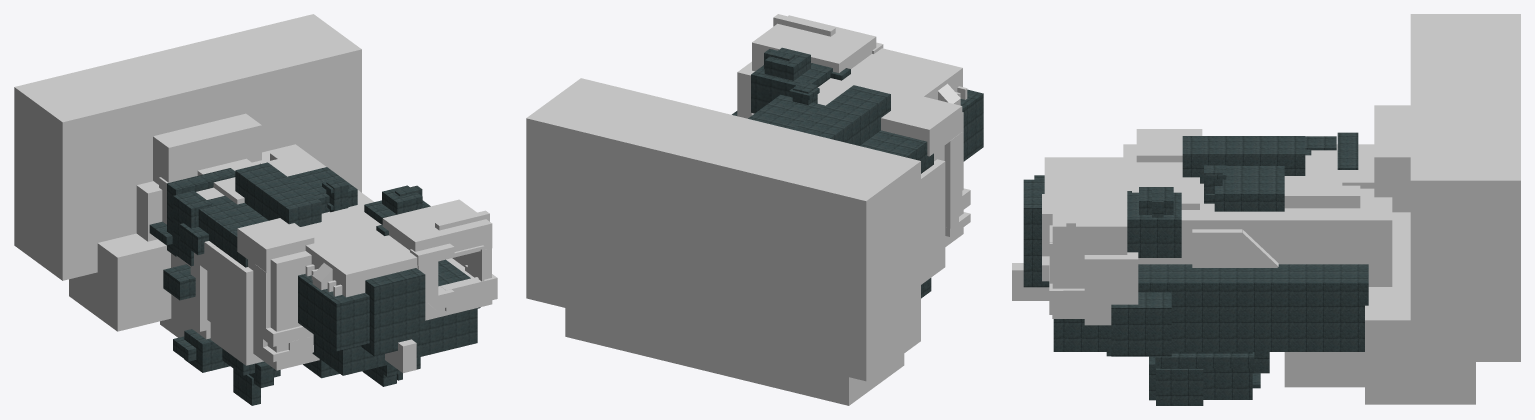
Rendered from EngineRemake_Exterior_Colliders.fbx.
3 views of the same model, side by side, from view 1: azimuth 30°, elevation 25°; view 2: azimuth 150°, elevation 25°; view 3: azimuth 270°, elevation 25° (orthographic). The views are drawn at different scales.
Visible parts, largest first — view 1: Cube.11199, Cube.11198, Cube.11190, Cube.11200, Cube.11189, Cube.11153, Cube.11186, Cube.11146, Cube.11152, Cube.11214, Cube.11157, Cube.11178 (+27 smaller); view 2: Cube.11199, Cube.11198, Cube.11190, Cube.11214, Cube.11157, Cube.11178, Cube.11186, ExteriorPiece.047, ExteriorPiece.053, Cube.11179, Cube.11149, Cube.11152 (+4 smaller); view 3: Cube.11199, Cube.11146, Cube.11189, Cube.11198, Cube.11214, Cube.11190, Cube.11157, ExteriorPiece.051, Cube.11200, Cube.11208, ExteriorPiece.053, Cube.11202 (+19 smaller).
Part boxes in pixels (<box>): Cube.11199: <box>14,14,361,280</box>; Cube.11198: <box>69,233,171,331</box>; Cube.11190: <box>300,205,427,303</box>; Cube.11200: <box>153,113,261,184</box>; Cube.11189: <box>159,144,373,370</box>; Cube.11153: <box>361,268,425,356</box>; Cube.11186: <box>210,246,263,365</box>; Cube.11146: <box>312,259,477,375</box>; Cube.11152: <box>298,274,369,350</box>; Cube.11214: <box>382,199,492,261</box>; Cube.11157: <box>235,162,321,226</box>; Cube.11178: <box>237,218,314,272</box>; Cube.11199: <box>526,78,920,381</box>; Cube.11198: <box>565,308,904,405</box>; Cube.11190: <box>817,48,962,105</box>; Cube.11214: <box>752,15,876,72</box>; Cube.11157: <box>793,85,890,145</box>; Cube.11178: <box>881,92,962,156</box>; Cube.11186: <box>921,159,945,284</box>; ExteriorPiece.047: <box>751,63,832,113</box>; ExteriorPiece.053: <box>748,94,824,129</box>; Cube.11179: <box>944,132,962,218</box>; Cube.11149: <box>860,130,933,173</box>; Cube.11152: <box>960,89,983,161</box>; Cube.11199: <box>1410,14,1520,361</box>; Cube.11146: <box>1053,264,1368,351</box>; Cube.11189: <box>1123,144,1392,286</box>; Cube.11198: <box>1365,212,1475,404</box>; Cube.11214: <box>1052,183,1127,254</box>; Cube.11190: <box>1044,157,1199,209</box>; Cube.11157: <box>1182,136,1305,183</box>; ExteriorPiece.051: <box>1111,292,1171,356</box>; Cube.11200: <box>1374,105,1410,207</box>; Cube.11208: <box>1084,252,1138,325</box>; ExteriorPiece.053: <box>1214,166,1284,211</box>; Cube.11202: <box>1284,352,1364,387</box>.
Size of the model in its own units: 8190 by 6224 by 10560.
